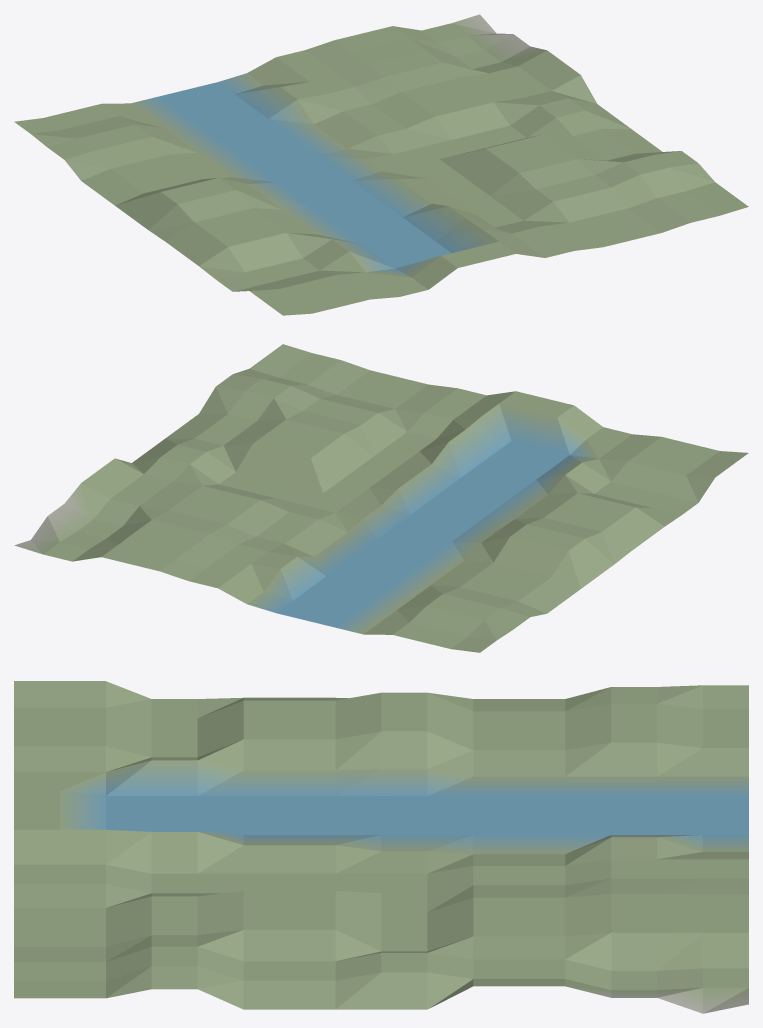
3 renders of one model, top to bottom at view 1: azimuth 30°, elevation 25°; view 2: azimuth 150°, elevation 25°; view 3: azimuth 270°, elevation 25°, orthographic. The views are drawn at different scales.
Bounding box in the file's own units: 32 × 1.44 × 32.
